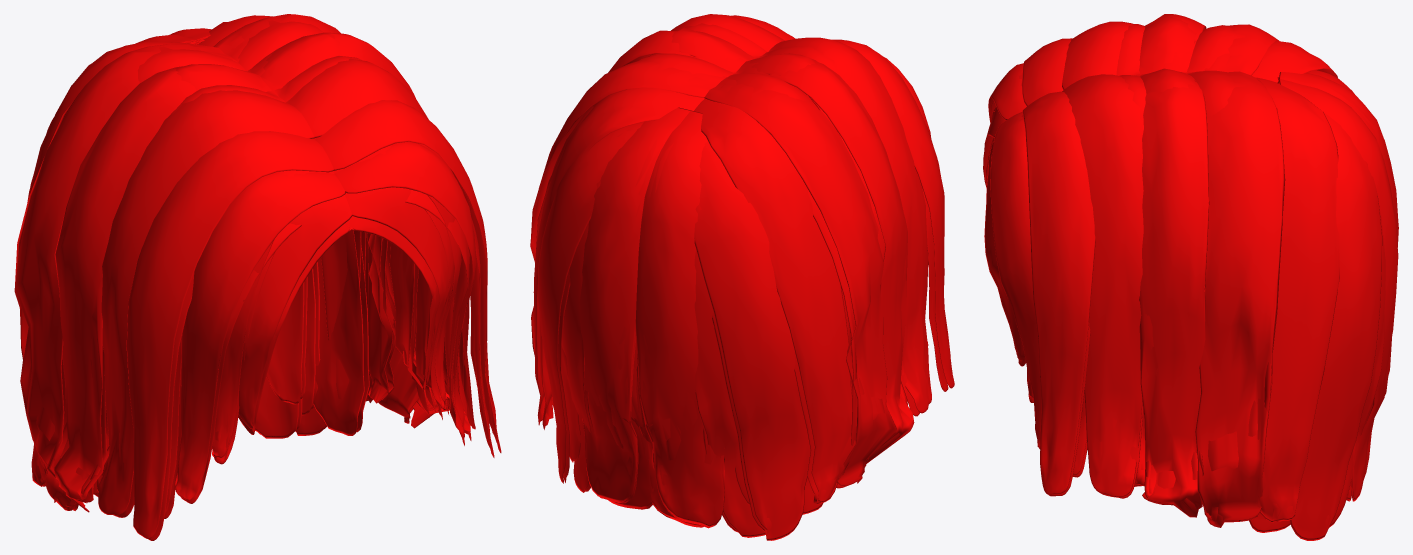
File: learning_anime_hair_M.glb
3 renders of one model, left to right at view 1: azimuth 30°, elevation 25°; view 2: azimuth 150°, elevation 25°; view 3: azimuth 270°, elevation 25°, orthographic. The views are drawn at different scales.
Size of the model in its own units: 0.2468 by 0.2872 by 0.2443.
1 material, 1 textured.
